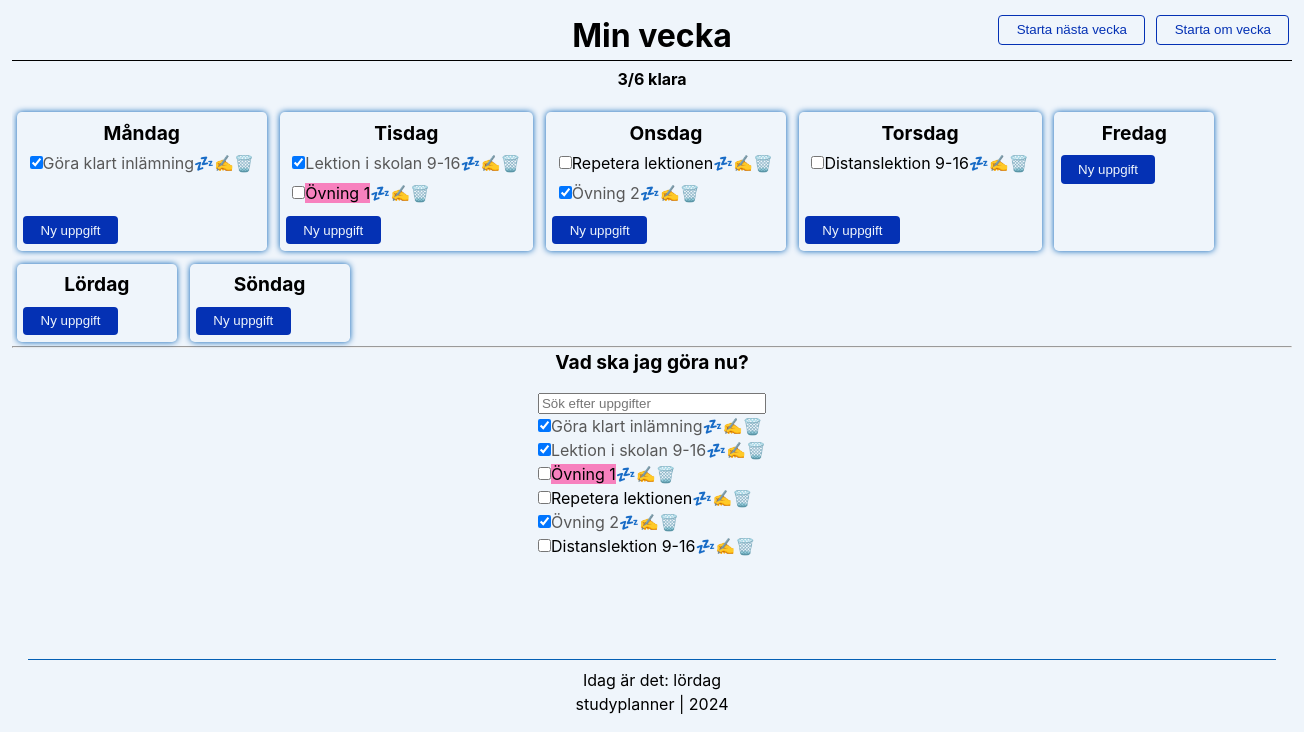
Test case: Todo Application E2E Tests › should filter todo items based on search text
Note: Skriv i sökfältet
Type "skola" into the field with test id "search-input".
click(652, 404); type("skola")  # box [538,393,766,414]
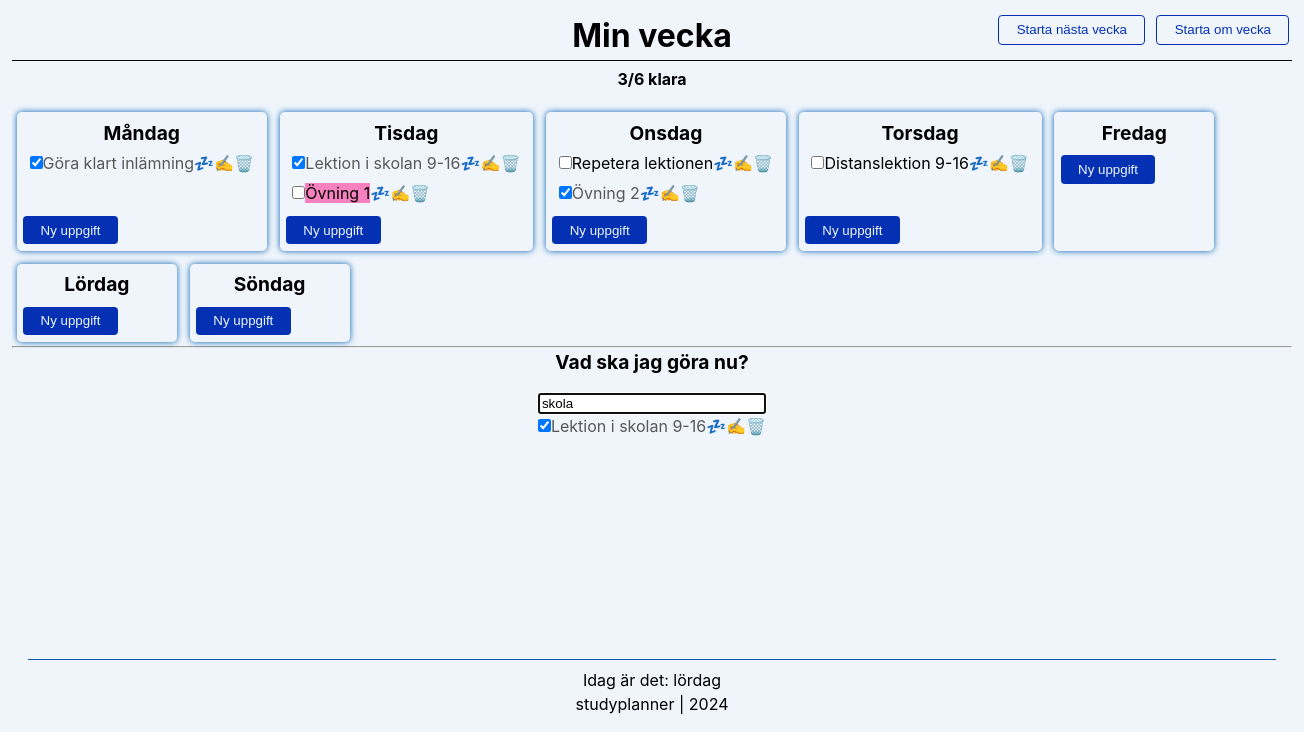
expect the number of elements with test id "todo-item" is 7: met
